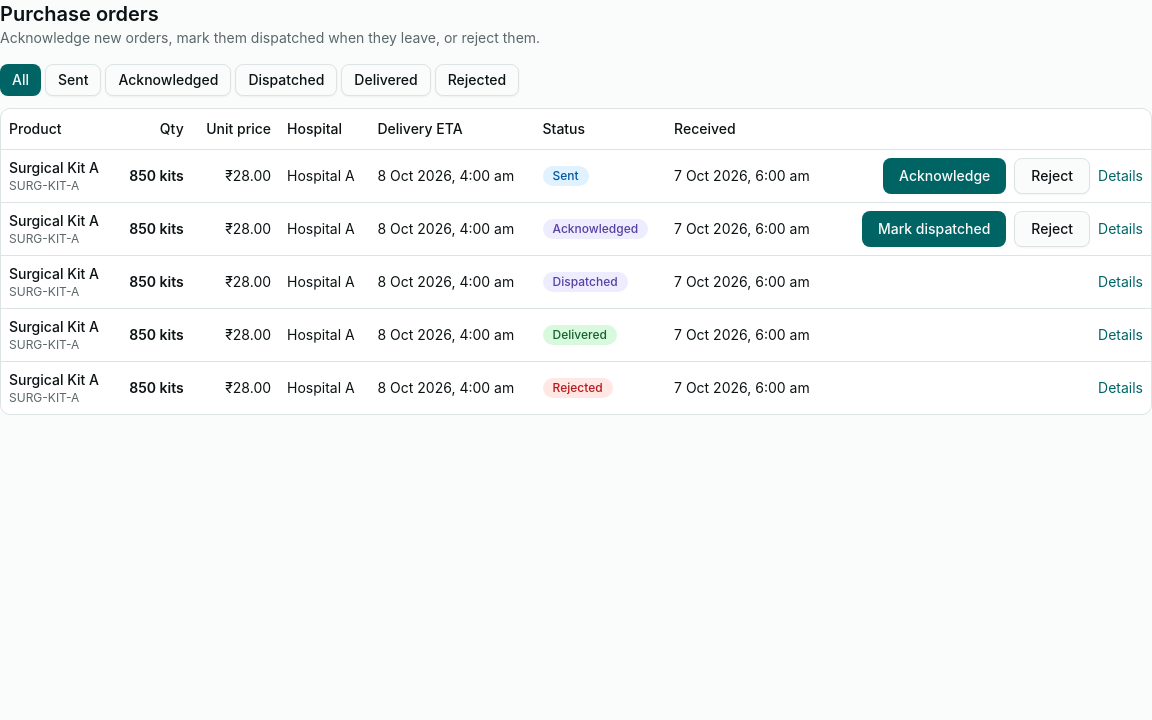
Test case: Purchase orders › rejects with the typed reason
Click the 1st button "Reject".
click(1052, 176)  # box [1014,158,1090,194]
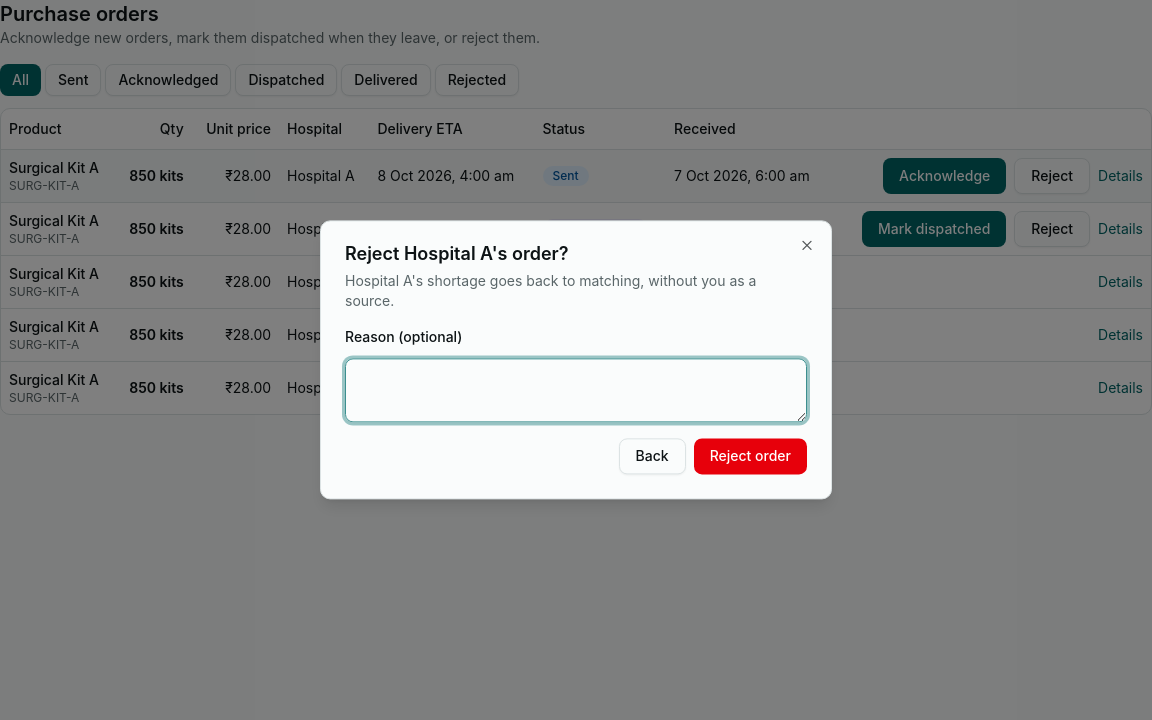
Type "Batch failed QC" into the text box labelled "Reason (optional)".
click(576, 391); type("Batch failed QC")  # box [345,359,807,423]
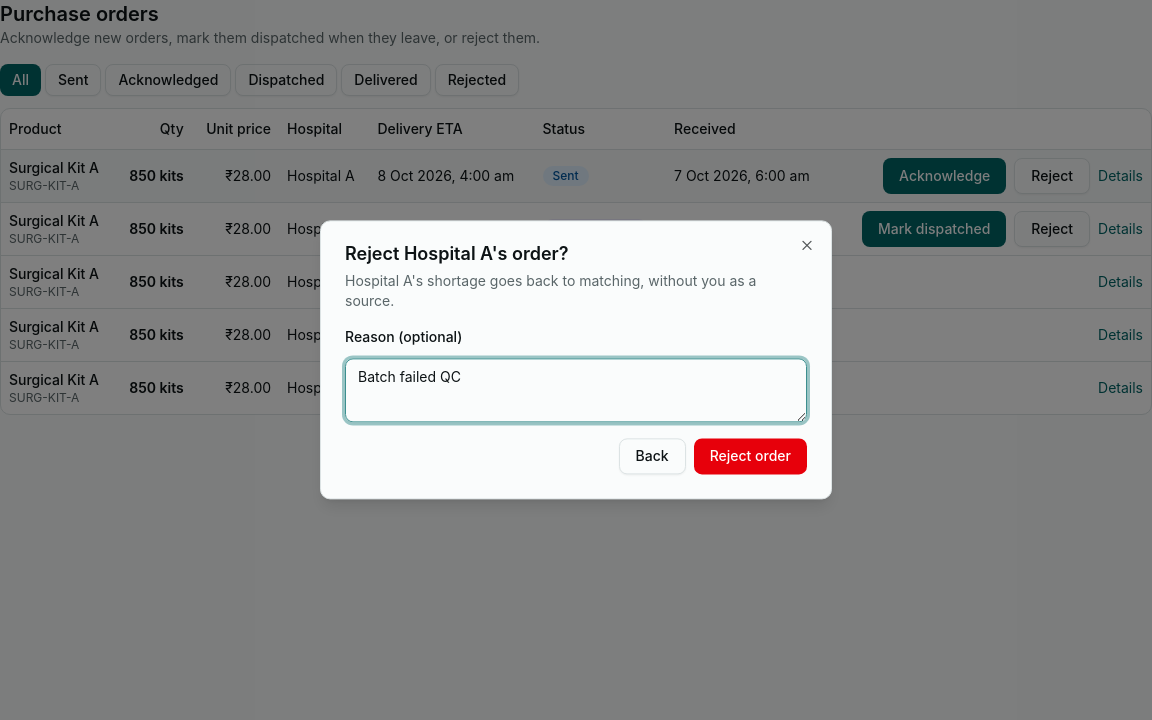
Click the button "Reject order".
click(750, 457)  # box [694,439,807,475]
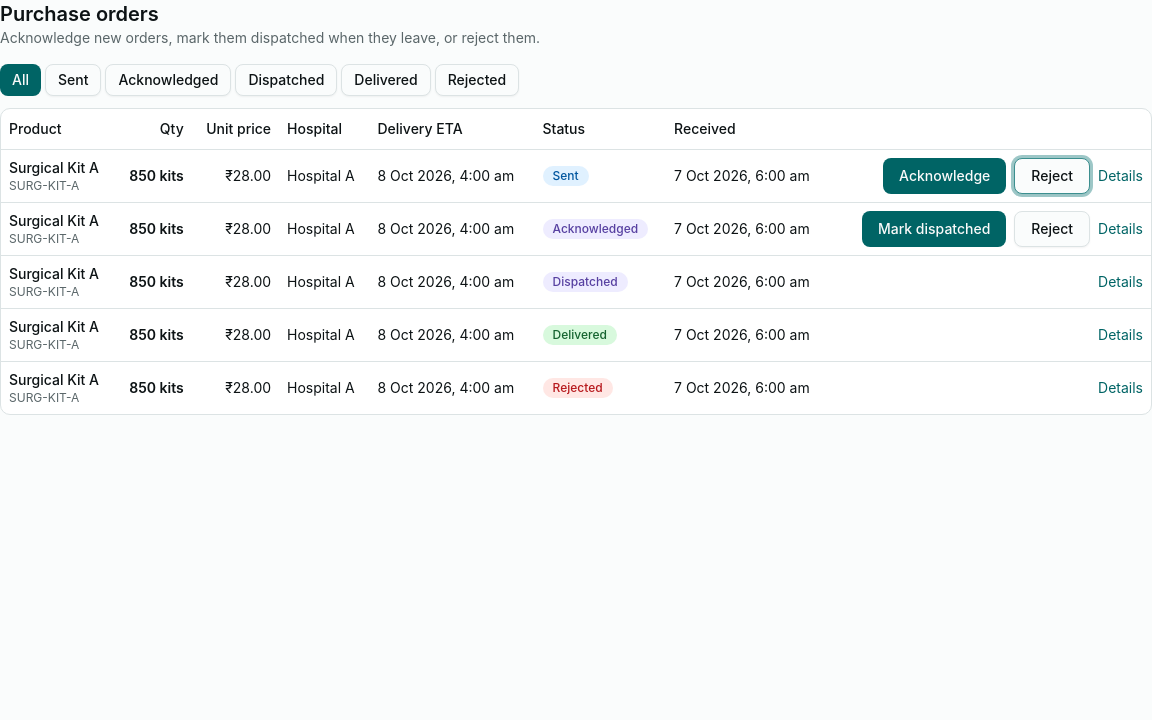
Result: the dialog is gone
